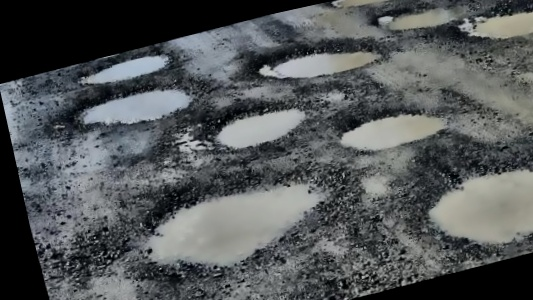pothole: (116, 152, 353, 294), (406, 141, 533, 267), (63, 67, 208, 142), (245, 22, 388, 96), (327, 95, 450, 162), (203, 92, 311, 157), (69, 44, 175, 92), (459, 0, 533, 52), (377, 0, 467, 40), (323, 0, 419, 18)
